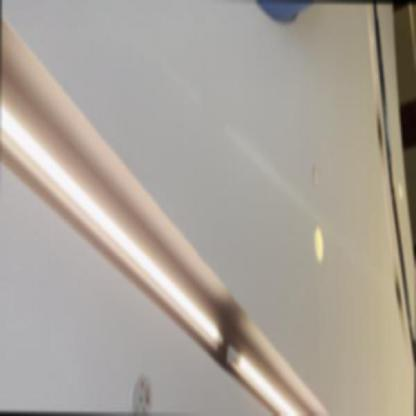light_on: (0, 106, 225, 363), (223, 336, 316, 416)
